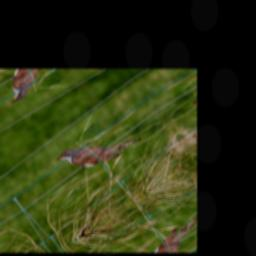Cuckoo: (52, 110, 146, 189)
